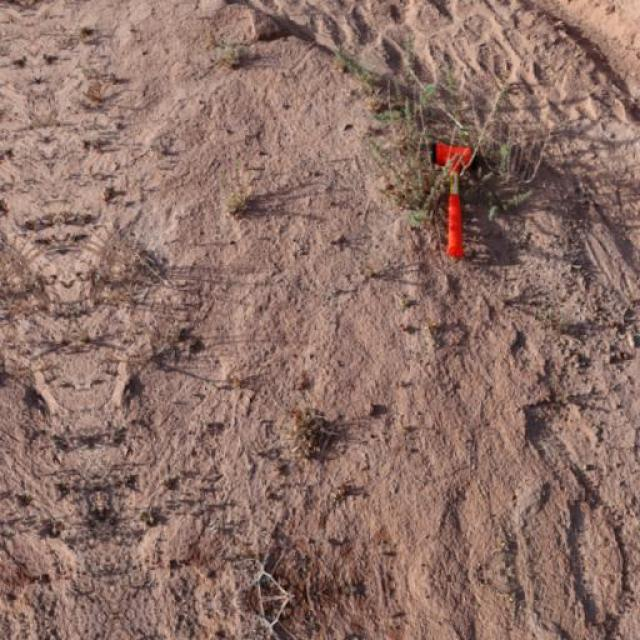mallet: (430, 139, 475, 260)
